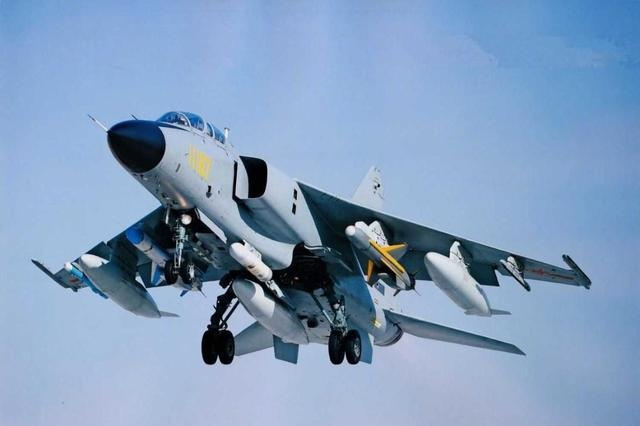airplane: (27, 109, 593, 377)
